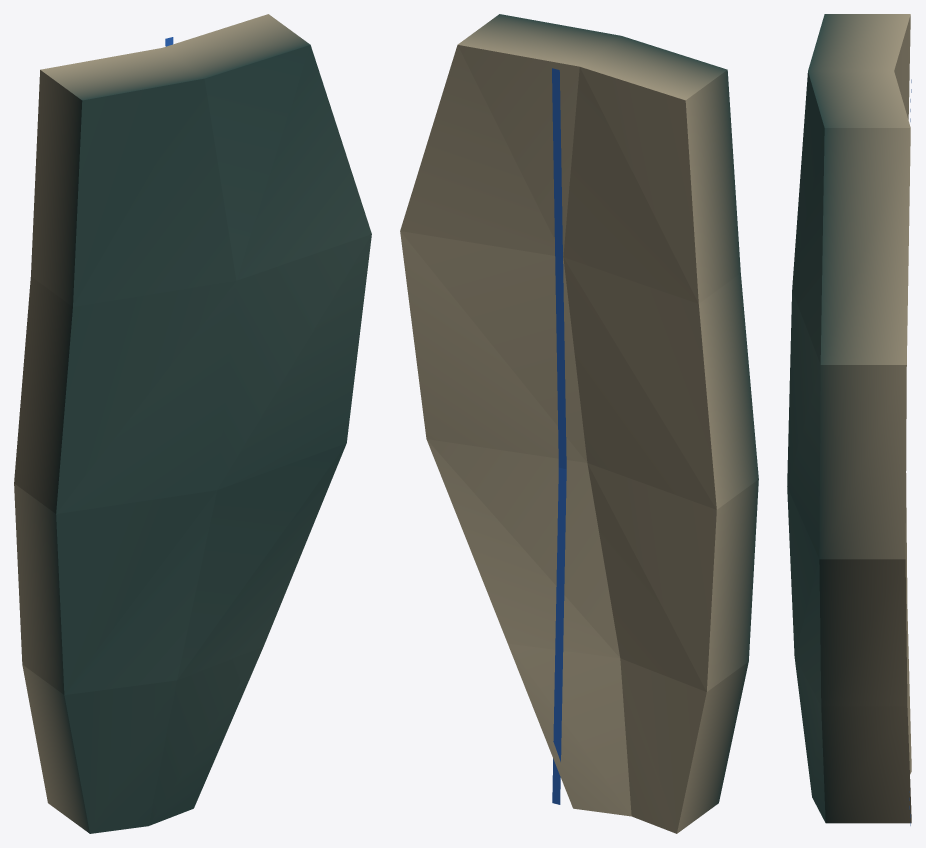
File: impeller_vane.glb
3 renders of one model, left to right at view 1: azimuth 30°, elevation 25°; view 2: azimuth 150°, elevation 25°; view 3: azimuth 270°, elevation 25°, orthographic. The views are drawn at different scales.
Parts seen in each view (by area): view 1: Vane; view 2: Vane; view 3: Vane.
Boxes of the visible parts, box(x1,y1,x2,y2) form: Vane: box(14, 14, 371, 833); Vane: box(400, 14, 758, 833); Vane: box(787, 14, 911, 825).
Bounding box in the file's own units: 3.6 × 8 × 1.2.
